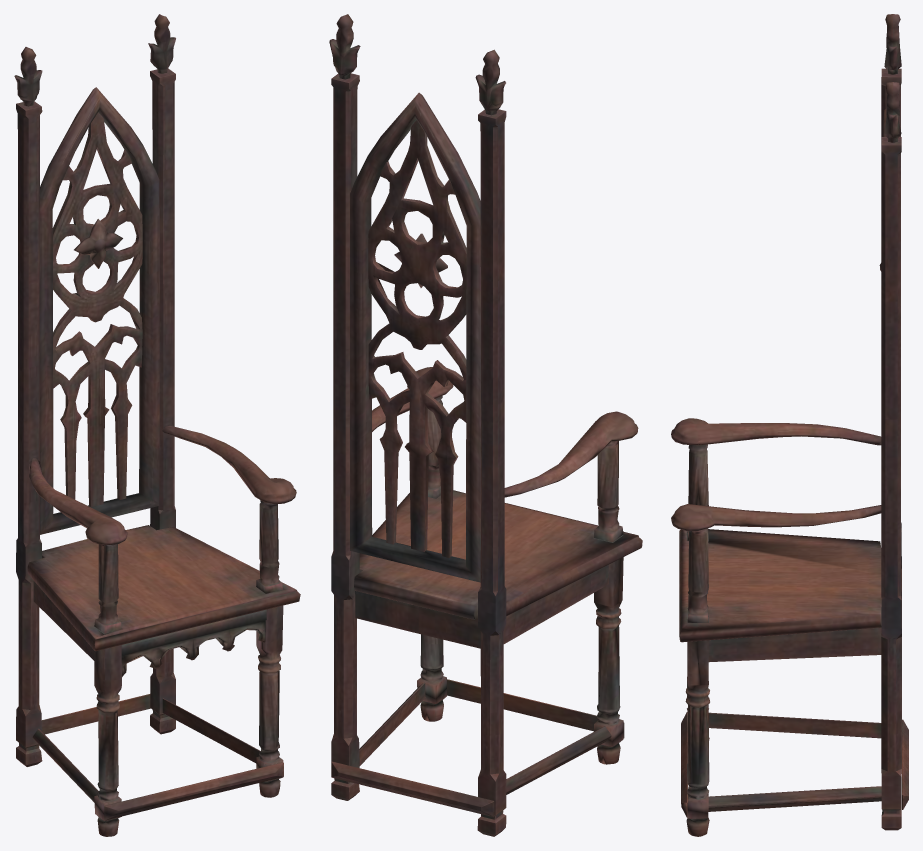
Rendered from WoodenChair_01.glb.
The picture shows the model from 3 angles, left to right: view 1: azimuth 30°, elevation 25°; view 2: azimuth 150°, elevation 25°; view 3: azimuth 270°, elevation 25°; orthographic projection. The views are drawn at different scales.
Visible parts, largest first — view 1: WoodenChair_01; view 2: WoodenChair_01; view 3: WoodenChair_01.
Part boxes in pixels (x1=…): WoodenChair_01: x1=14, y1=14, x2=300, y2=836; WoodenChair_01: x1=329, y1=14, x2=642, y2=836; WoodenChair_01: x1=671, y1=14, x2=908, y2=836.
Size of the model in its own units: 0.6872 by 2.27 by 0.6575.
1 material, 1 textured.
